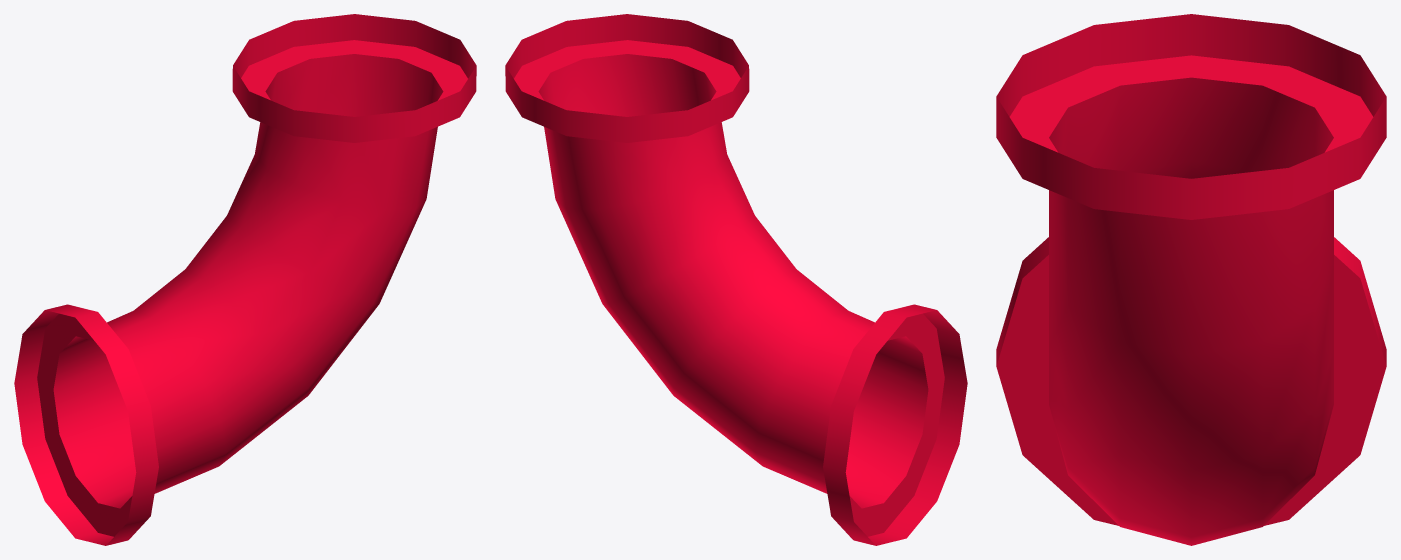
Rendered from Pipe_Curve_Middle.fbx.
3 renders of one model, left to right at view 1: azimuth 30°, elevation 25°; view 2: azimuth 150°, elevation 25°; view 3: azimuth 270°, elevation 25°, orthographic. The views are drawn at different scales.
Parts seen in each view (by area): view 1: Pipe_Curve_MIddle; view 2: Pipe_Curve_MIddle; view 3: Pipe_Curve_MIddle.
Part boxes in pixels (<box>): Pipe_Curve_MIddle: <box>14,14,476,545</box>; Pipe_Curve_MIddle: <box>505,14,967,545</box>; Pipe_Curve_MIddle: <box>996,14,1386,545</box>.
Bounding box in the file's own units: 499 × 501 × 274.
